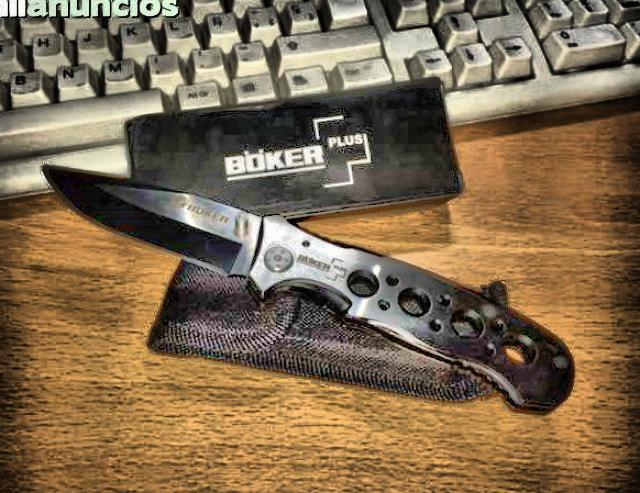knife: (30, 157, 296, 301)
